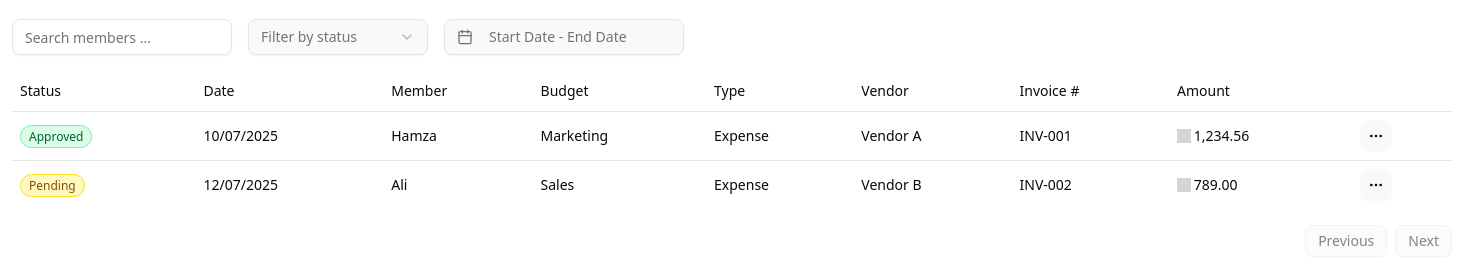
Test: DataTable › renders table rows and allows member filtering
Expected: the text "Hamza" is shown, [383,111,532,160]
Expected: the text "Ali" is shown, [383,160,532,209]
// Type a name that matches only one row
Type "Hamza" into the field with placeholder "Search members ..." at [122, 37], box [12,19,232,55]
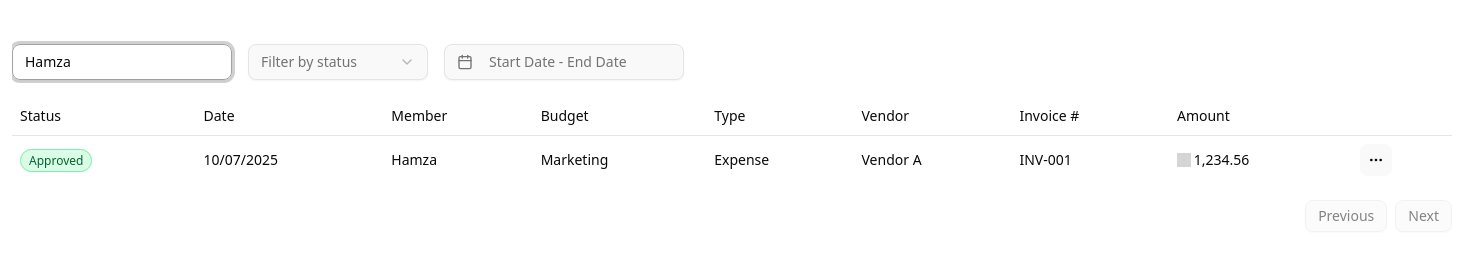
Expected: the text "Hamza" is shown, [383,136,533,184]
Result: the text "Ali" is gone
// Type a name that matches no one
Clear the field with placeholder "Search members ..." at [122, 62], box [12,44,232,80]
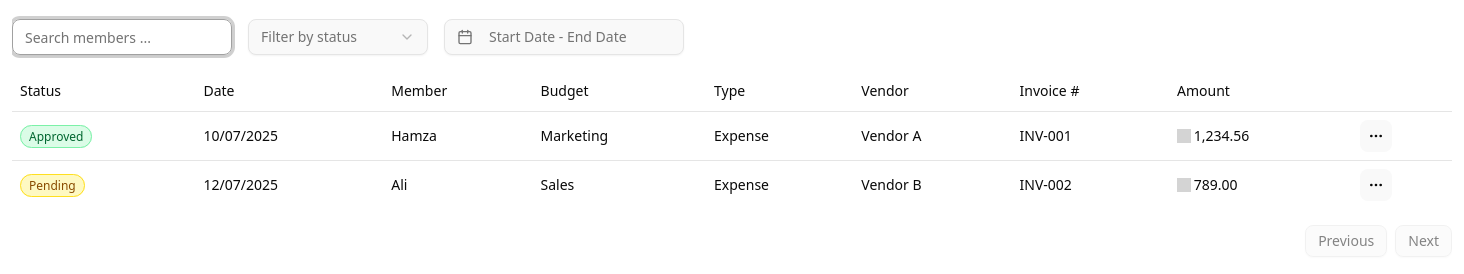
Type "Ahmed" into the field with placeholder "Search members ..." at [122, 37], box [12,19,232,55]
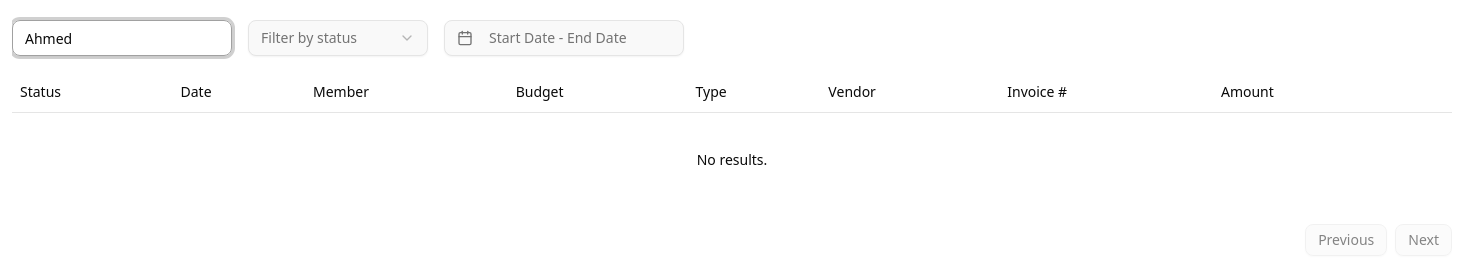
Result: the text "No results." is shown at [12,112,1452,208]
